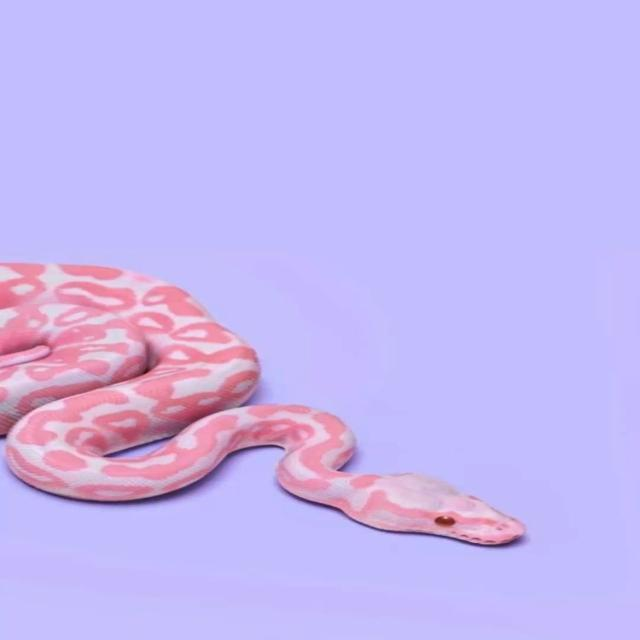Snake: (0, 255, 581, 564)
